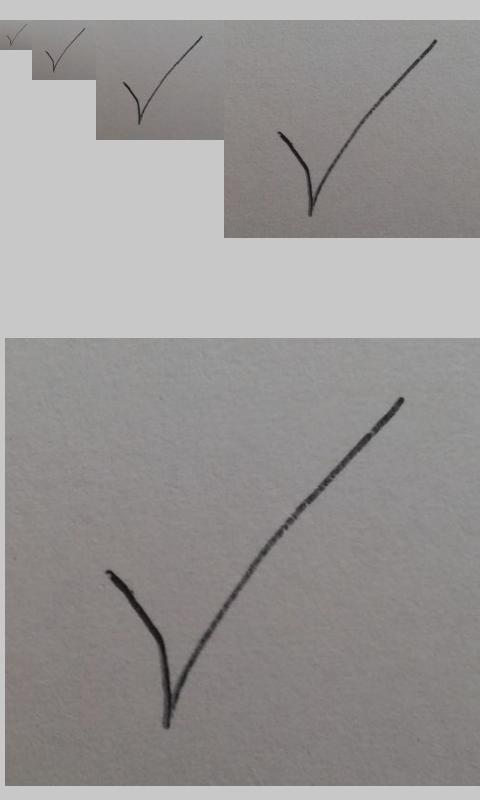check_box: (106, 396, 406, 731), (279, 40, 437, 217), (122, 36, 202, 125), (44, 29, 85, 72), (6, 25, 25, 46)
